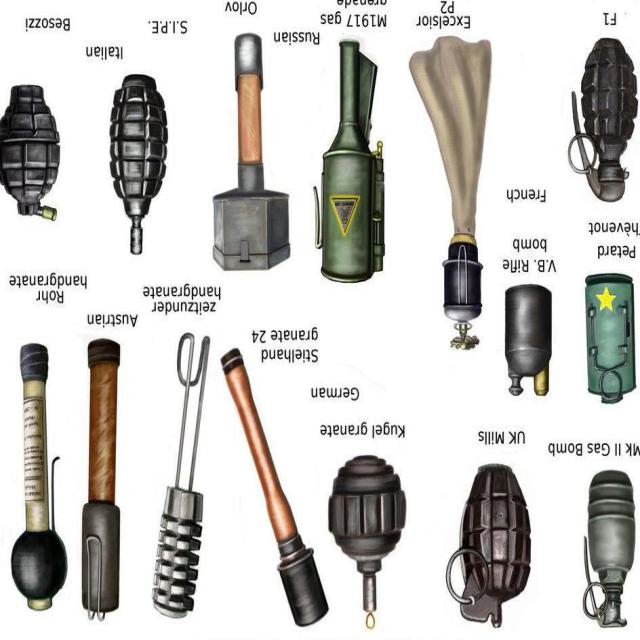grenade: (315, 38, 386, 285), (445, 464, 533, 630), (327, 453, 409, 630), (569, 37, 639, 204), (109, 73, 170, 256), (583, 471, 638, 631), (2, 82, 62, 224), (585, 275, 639, 405), (505, 289, 554, 397), (11, 531, 69, 613)
